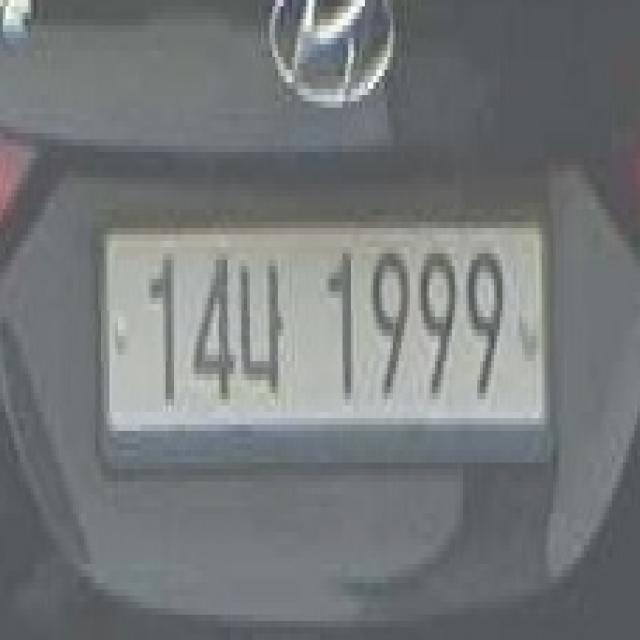1: (140, 247, 186, 431), (323, 247, 362, 437)
4: (185, 247, 239, 425)
9: (460, 228, 511, 437), (365, 241, 415, 431), (416, 240, 460, 424)
license_plate: (90, 209, 553, 469)
na: (238, 253, 298, 424)
